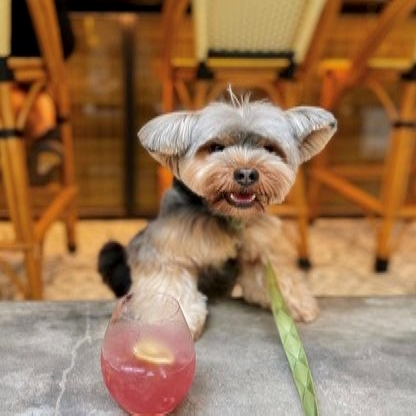yorkshire: (102, 91, 341, 336)
